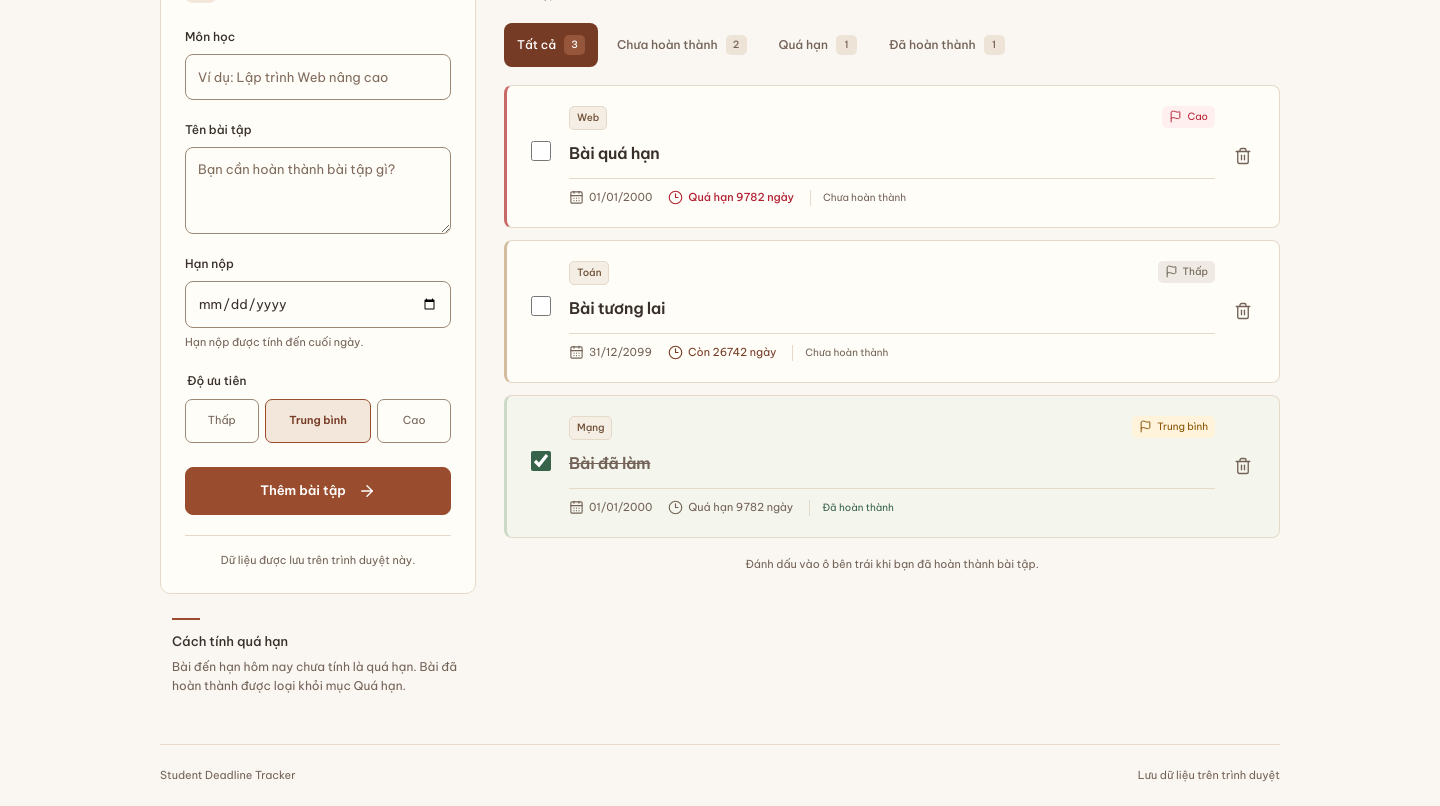
Test: assignment interface › shows field errors and retains values on invalid submit
(page scrolled)
Expected: the heading "Bài quá hạn" is shown, [569, 143, 659, 163]
Click the button "Thêm bài tập" at (318, 490), box [185, 466, 451, 514]
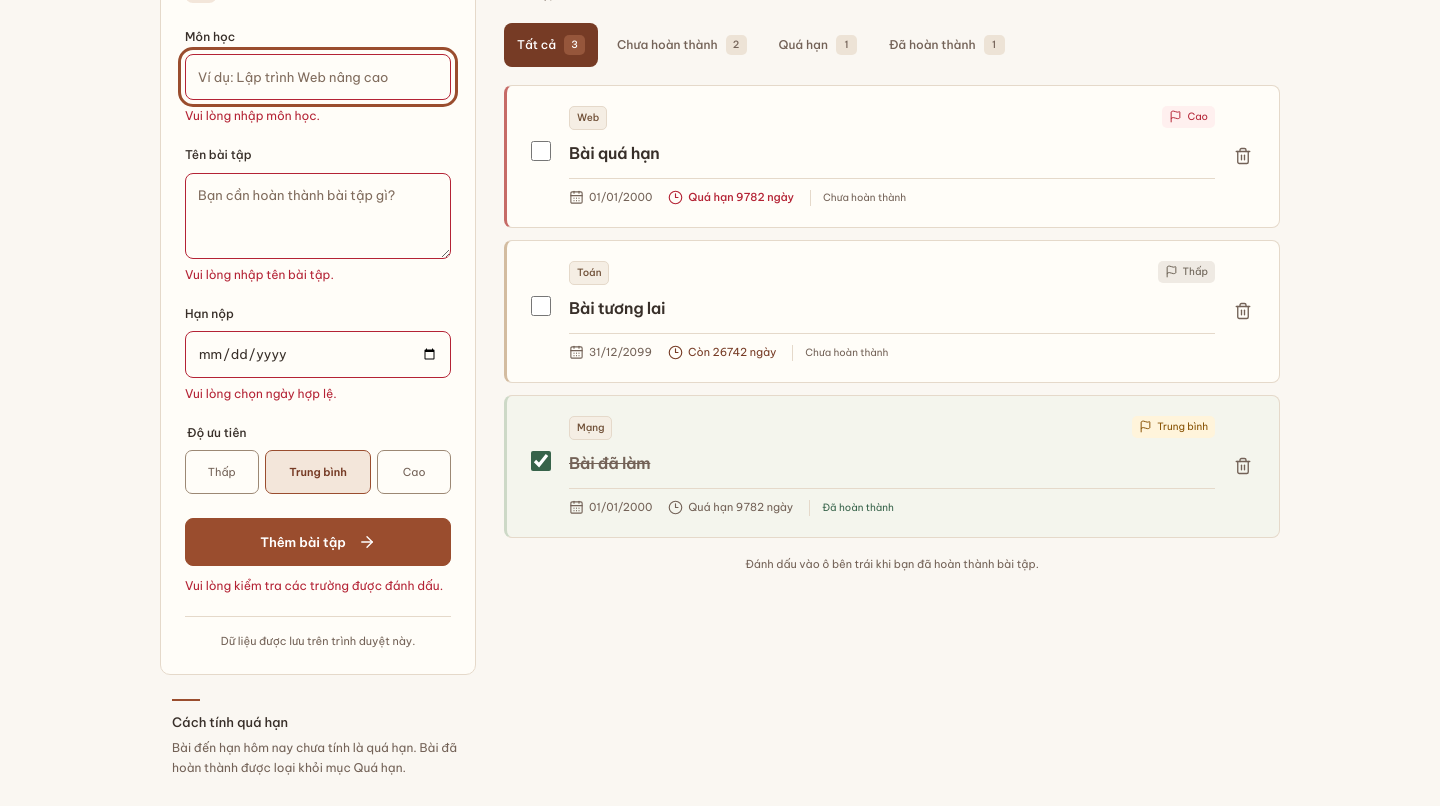
Result: the text "Vui lòng nhập môn học." is shown at [185, 108, 320, 123]
Result: the text "Vui lòng nhập tên bài tập." is shown at [185, 267, 334, 282]
Result: the text "Vui lòng chọn ngày hợp lệ." is shown at [185, 386, 337, 401]
